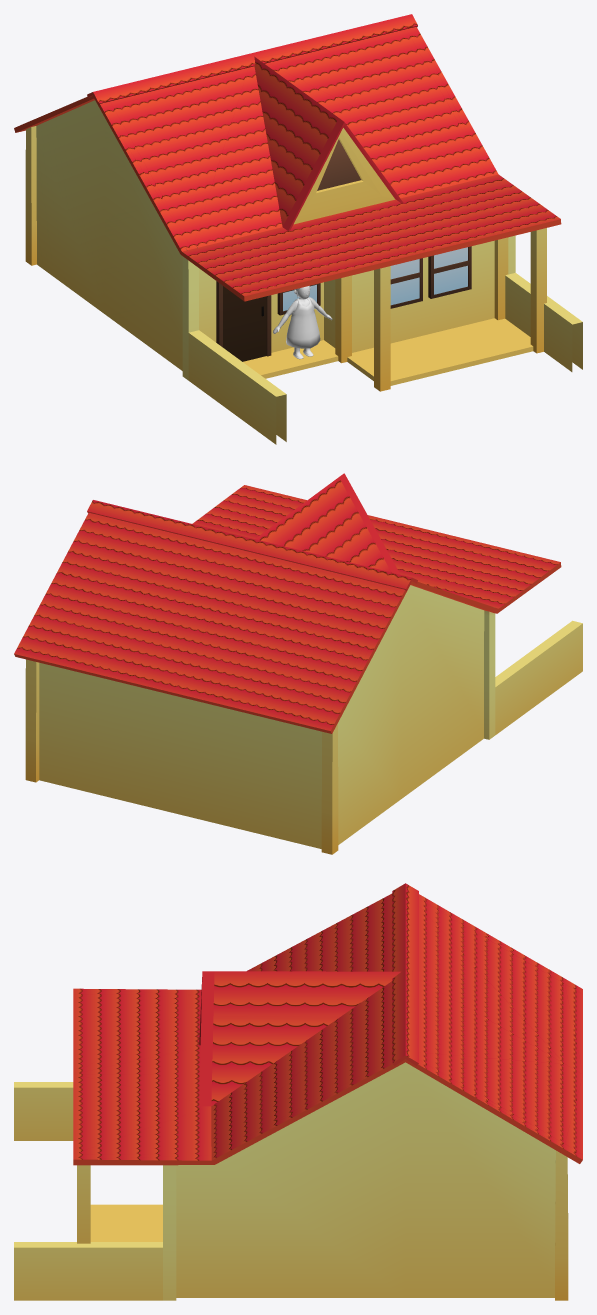
File: RumahBobon.fbx
3 renders of one model, top to bottom at view 1: azimuth 30°, elevation 25°; view 2: azimuth 150°, elevation 25°; view 3: azimuth 270°, elevation 25°, orthographic. The views are drawn at different scales.
Parts seen in each view (by area): view 1: BodyHouse_Bobon_LOD0, Emak MC.009; view 2: BodyHouse_Bobon_LOD0; view 3: BodyHouse_Bobon_LOD0.
Part boxes in pixels (box(x1,y1,x2,y2)): BodyHouse_Bobon_LOD0: box(14, 14, 582, 444); Emak MC.009: box(273, 285, 332, 359); BodyHouse_Bobon_LOD0: box(14, 473, 582, 854); BodyHouse_Bobon_LOD0: box(14, 883, 582, 1300).
Size of what is drawn, in the model's own units: 830 by 559 by 1160.
